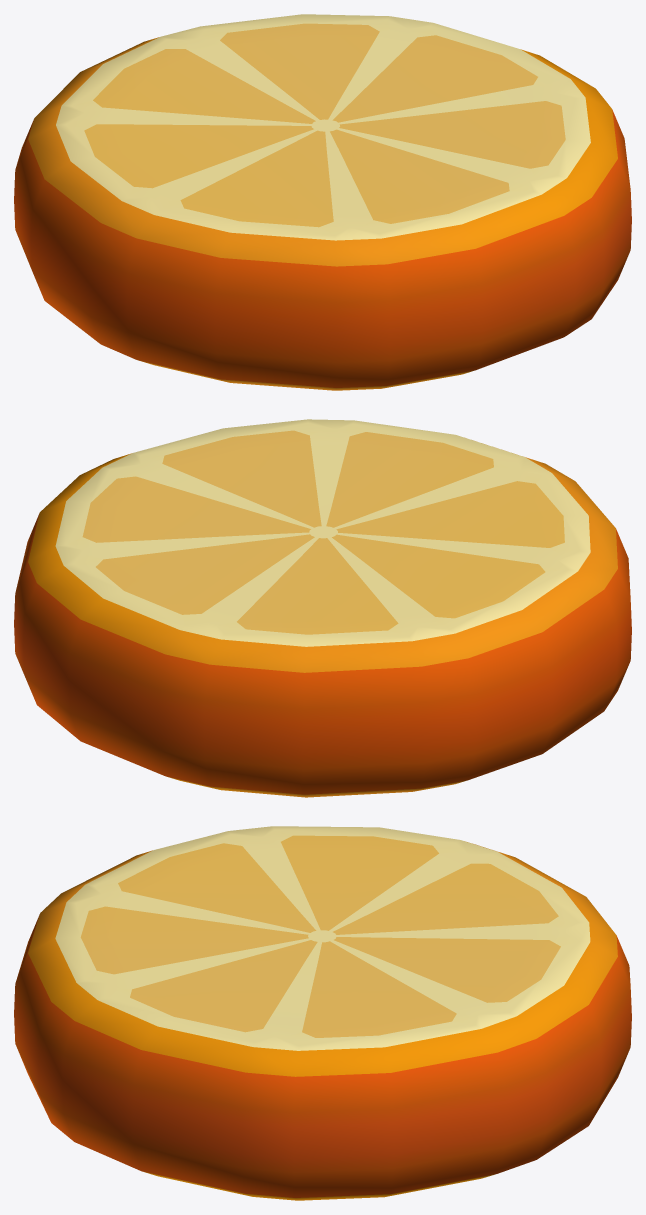
File: candy_hard_3.fbx
The picture shows the model from 3 angles, top to bottom: view 1: azimuth 30°, elevation 25°; view 2: azimuth 150°, elevation 25°; view 3: azimuth 270°, elevation 25°; orthographic projection.
Visible parts, largest first — view 1: c_h_3; view 2: c_h_3; view 3: c_h_3.
Boxes of the visible parts, x1=… form: c_h_3: x1=14, y1=14, x2=631, y2=390; c_h_3: x1=14, y1=419, x2=631, y2=797; c_h_3: x1=14, y1=826, x2=631, y2=1200.
Size of the model in its own units: 157 by 42.99 by 158.
